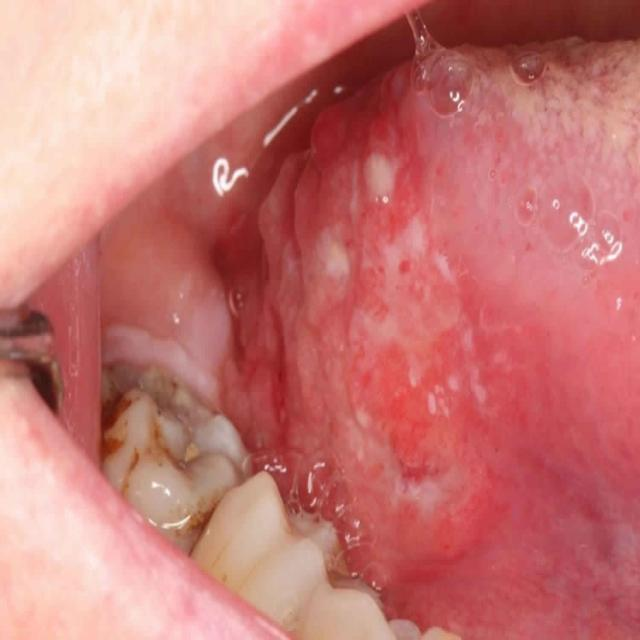Cancer: (229, 108, 514, 528)
